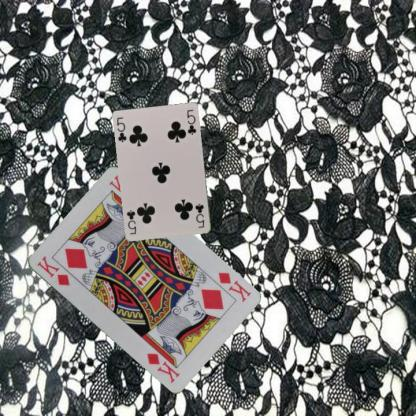5c: (115, 115, 128, 144), (193, 201, 206, 229)
Kd: (34, 253, 71, 287), (215, 270, 252, 304)
